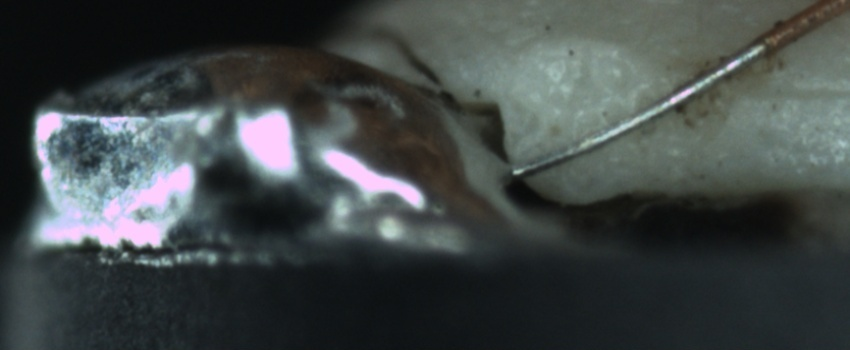DL: (737, 61, 850, 125)
TS: (512, 38, 767, 180)
